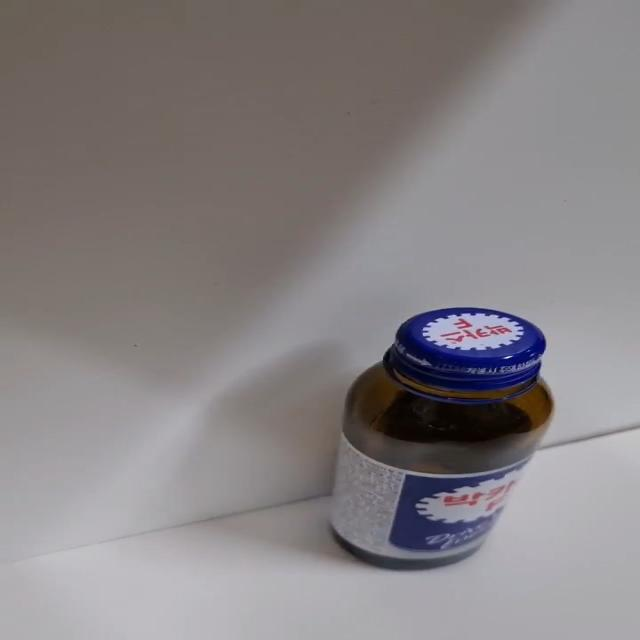Glass: (328, 306, 556, 573)
